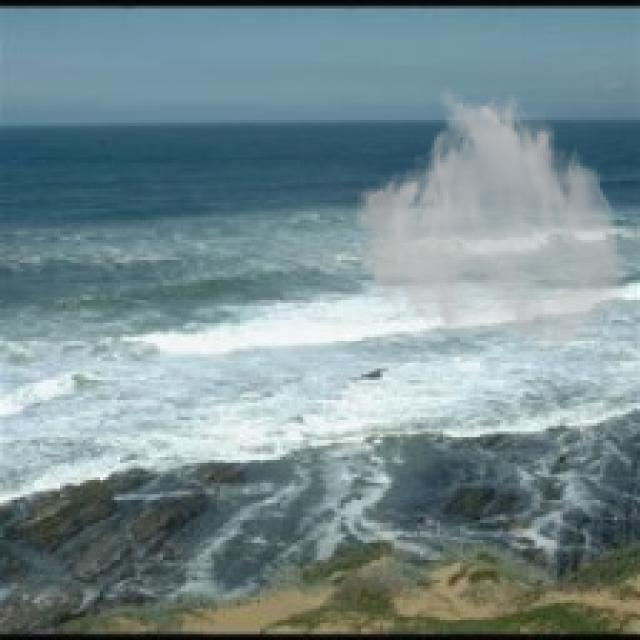smoke: (352, 86, 632, 354)
